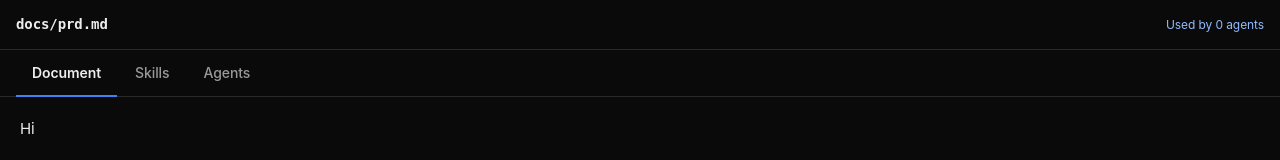
Test case: DocViewer — 'Used by N agents' click-through (D2) › switches to the Agents tab
Click the button "Used by 0 agents" at (1215, 24), box 1166,16 -> 1264,34
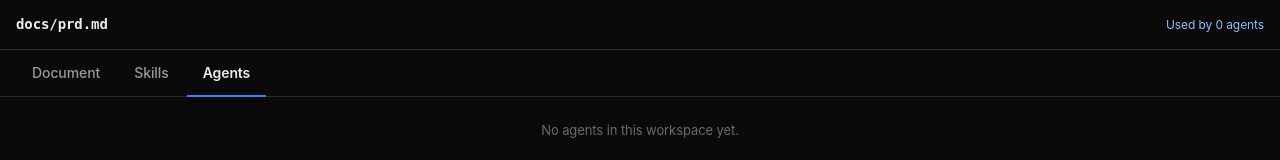
Check: the text "No agents in this workspace yet." is shown, box 541,122 -> 739,138
